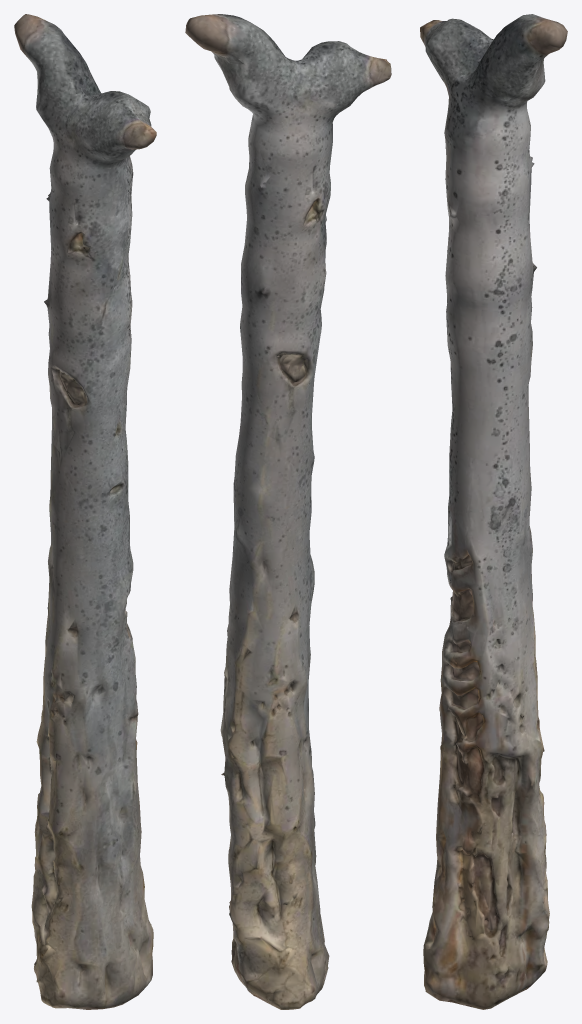
The model's file is quiver_trunk.glb.
3 views of the same model, side by side, from view 1: azimuth 90°, elevation 25°; view 2: azimuth 150°, elevation 25°; view 3: azimuth 270°, elevation 25° (orthographic). The views are drawn at different scales.
Parts seen in each view (by area): view 1: dead_quiver_trunk_LOD0; view 2: dead_quiver_trunk_LOD0; view 3: dead_quiver_trunk_LOD0.
Boxes of the visible parts, <box> form: dead_quiver_trunk_LOD0: <box>14,14,156,1009</box>; dead_quiver_trunk_LOD0: <box>185,14,391,1009</box>; dead_quiver_trunk_LOD0: <box>420,14,567,1009</box>.
Size of the model in its own units: 0.3065 by 1.99 by 0.268.
Materials: 1 (1 with a texture image).
